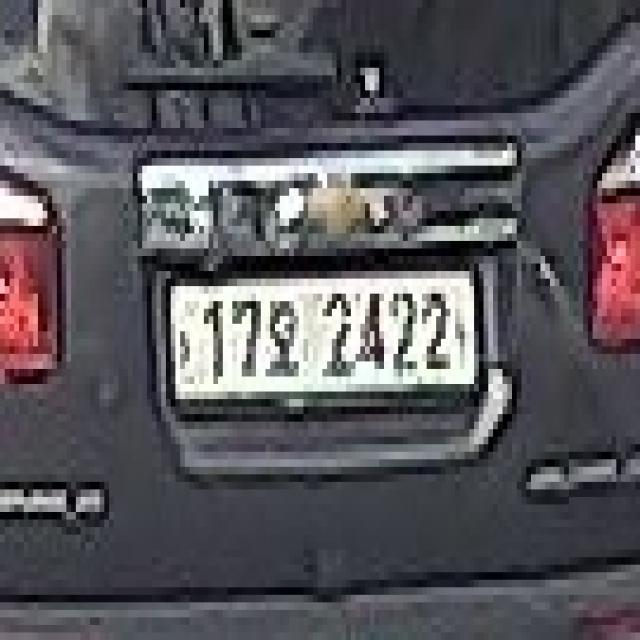plat: (165, 265, 480, 409)
